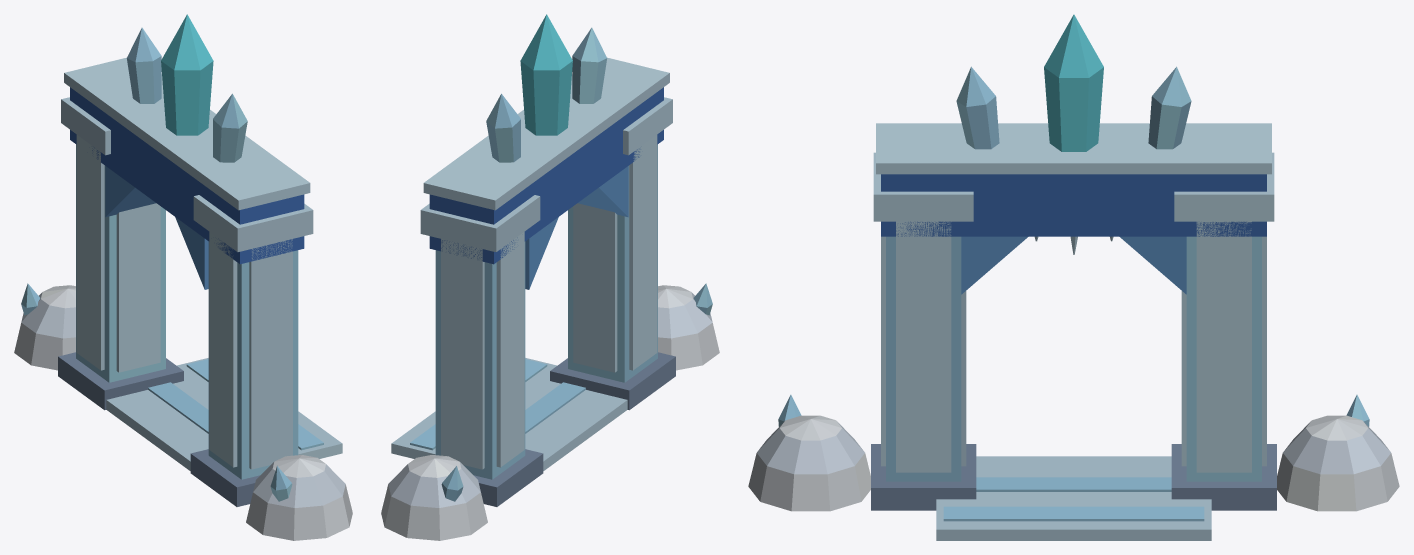
Rendered from Decor_IcePalace_Gate.fbx.
The picture shows the model from 3 angles, left to right: view 1: azimuth 30°, elevation 25°; view 2: azimuth 150°, elevation 25°; view 3: azimuth 270°, elevation 25°; orthographic projection. The views are drawn at different scales.
Visible parts, largest first — view 1: Gate_Body; view 2: Gate_Body; view 3: Gate_Body.
Boxes of the visible parts, x1,y1,x2,y2 form: Gate_Body: (14,14,352,540); Gate_Body: (381,14,719,540); Gate_Body: (748,14,1399,540).
Bounding box in the file's own units: 7.5 × 20.9 × 26.
